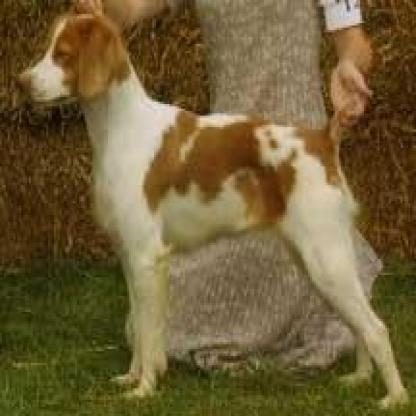Brittany_spaniel: (15, 5, 408, 406)
